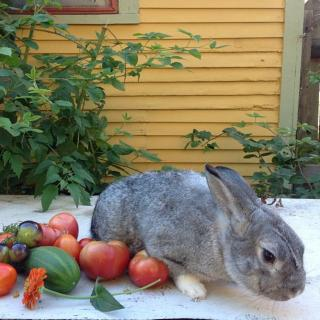tomato: (75, 241, 131, 273), (127, 260, 168, 293), (48, 211, 82, 238), (53, 229, 78, 260)
